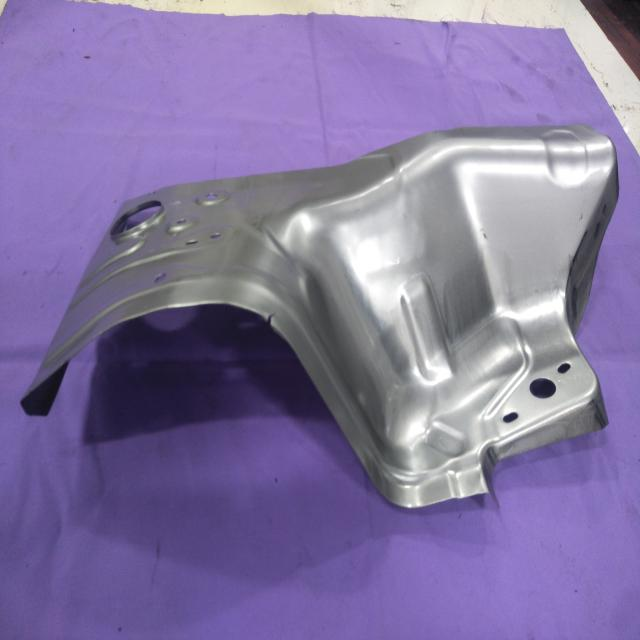Defect: (257, 296, 280, 341)
